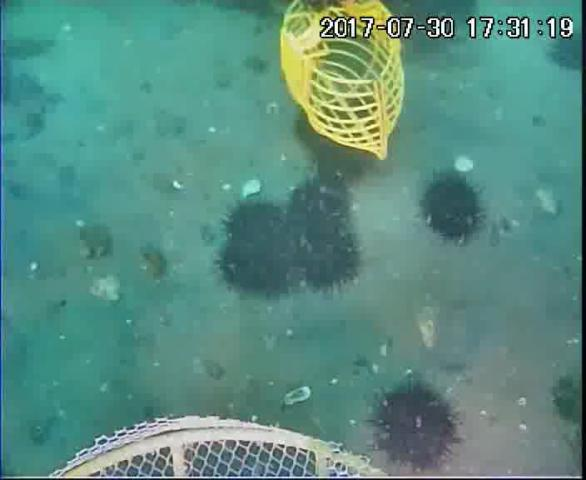echinus: (370, 378, 462, 474), (214, 231, 294, 295), (418, 171, 487, 245), (289, 176, 358, 238), (300, 228, 363, 293), (224, 198, 290, 260), (313, 142, 369, 185), (292, 104, 334, 150), (552, 376, 586, 426), (547, 31, 586, 72)
